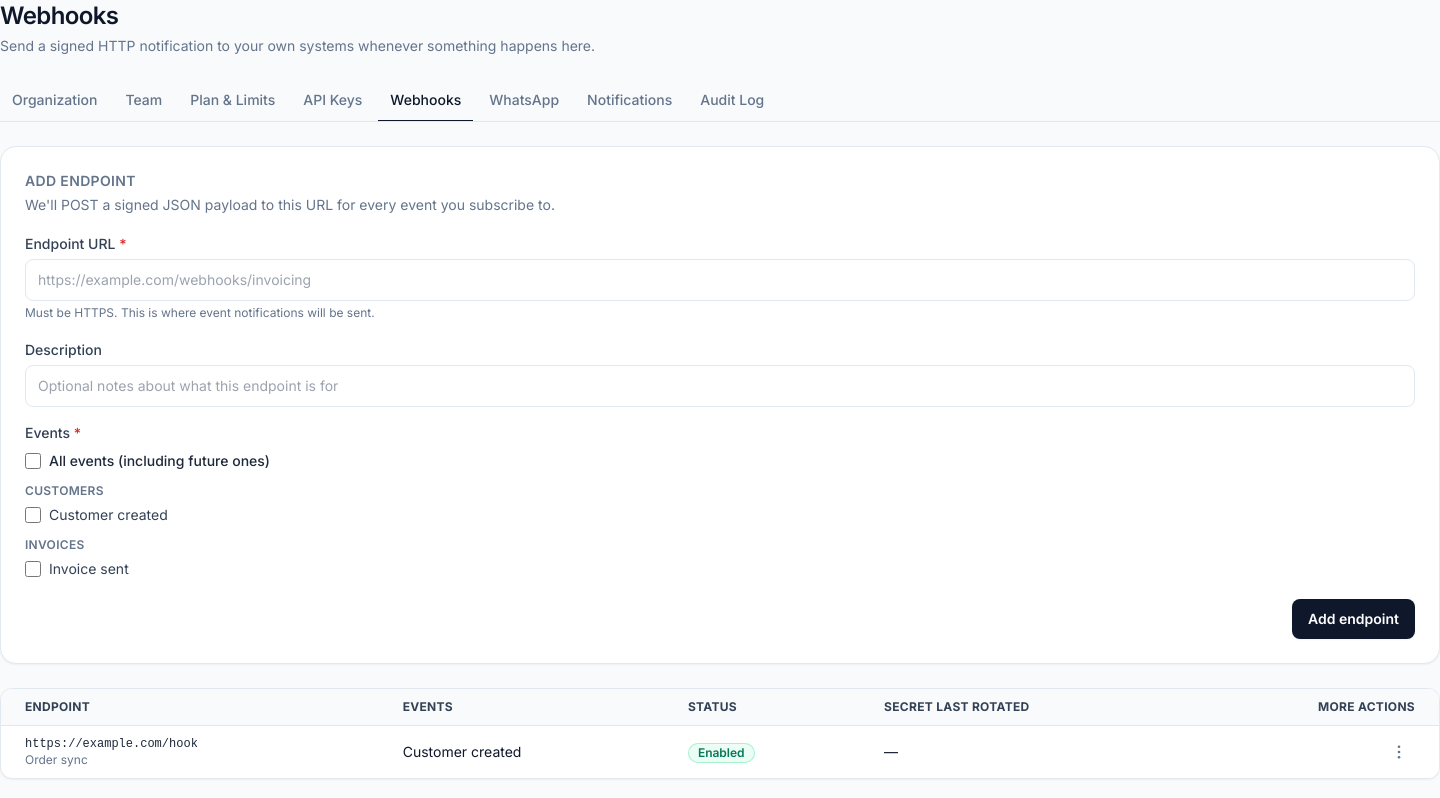
WebhooksPage › archives an endpoint after confirmation
Expected: the text "https://example.com/hook" is shown, [25,737,198,751]
Click the button named "More actions". click: (1399, 752)
box: [1383,736,1415,768]
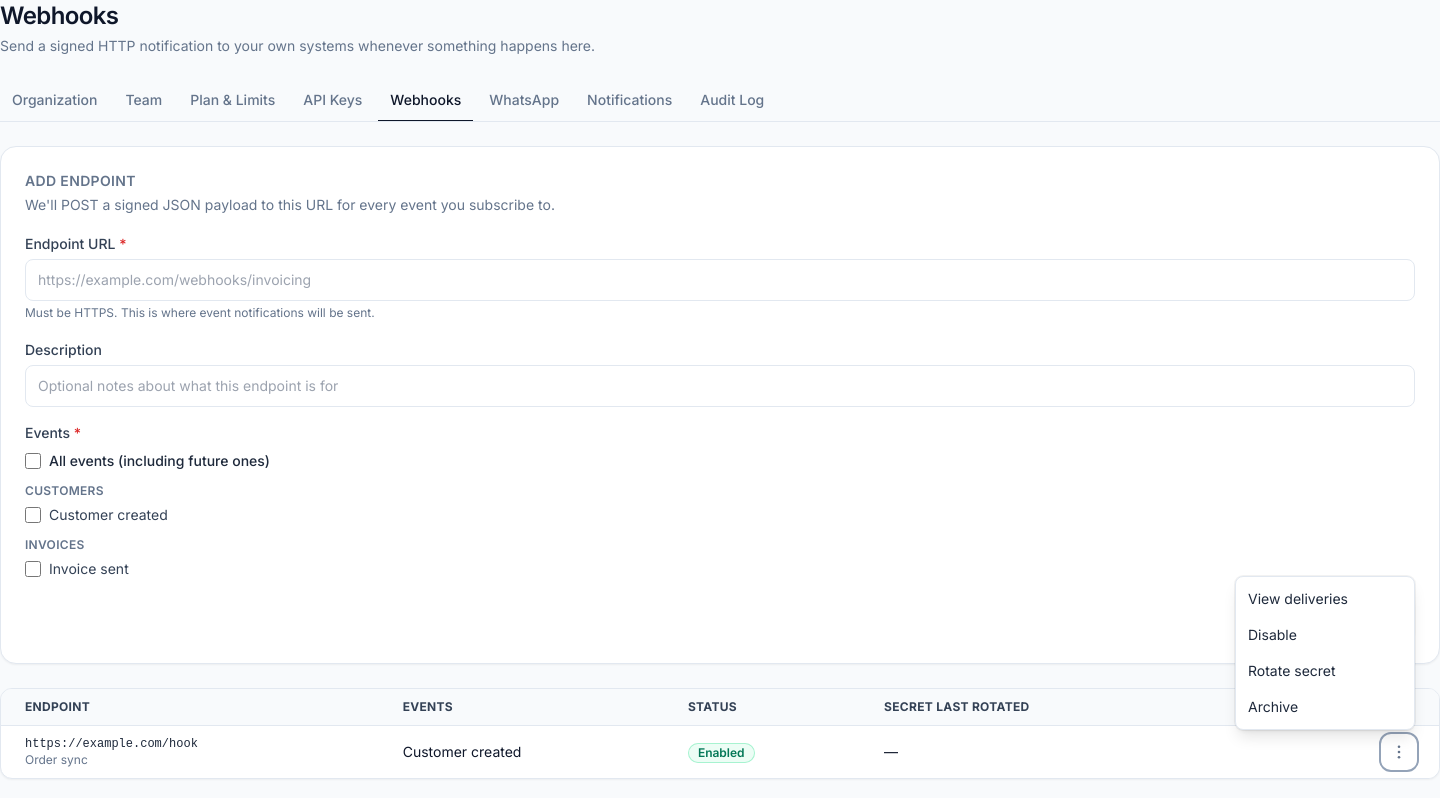
Click the menu item "Archive". click: (1325, 707)
box: [1236,689,1414,725]
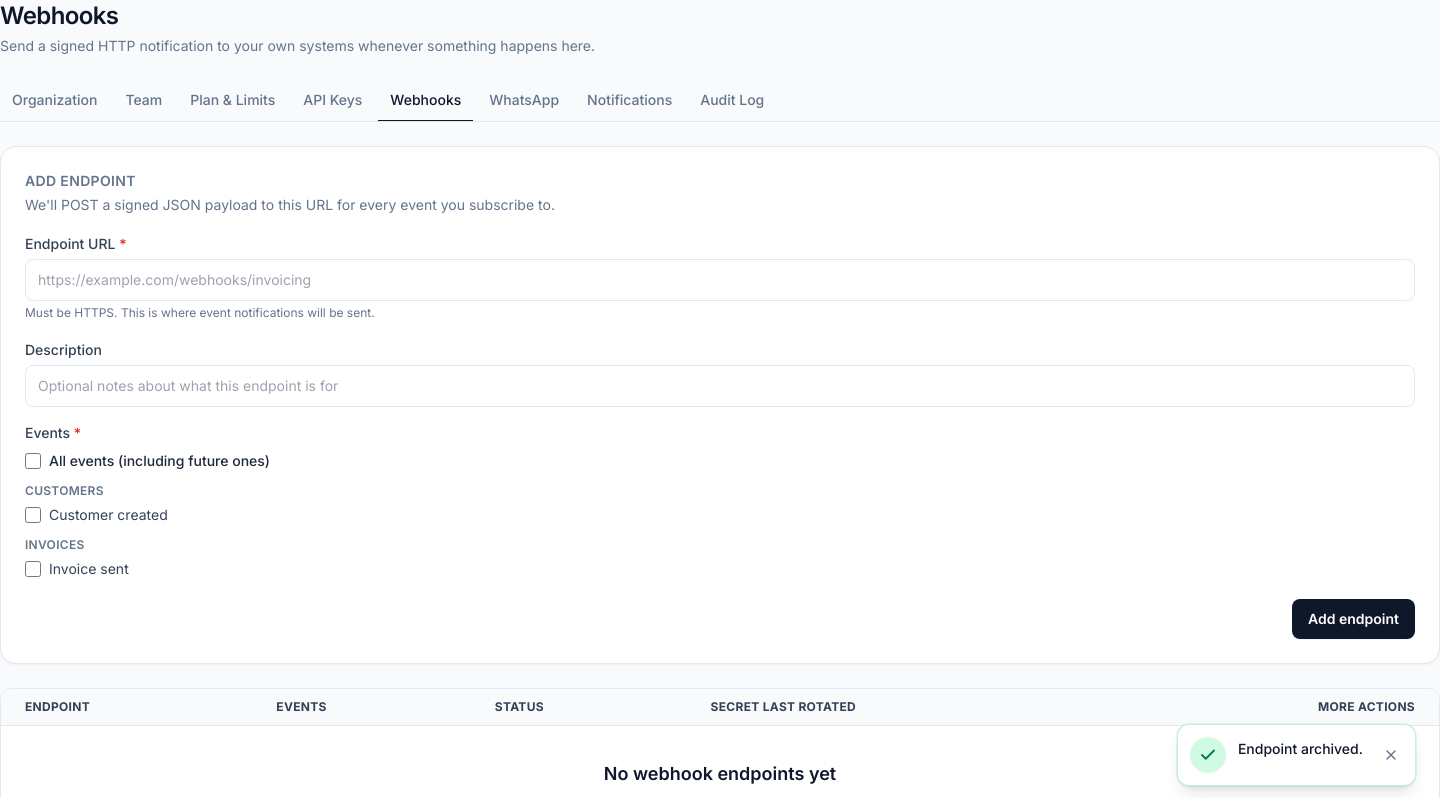
Expected: the heading "No webhook endpoints yet" is shown, [604,763,836,784]
